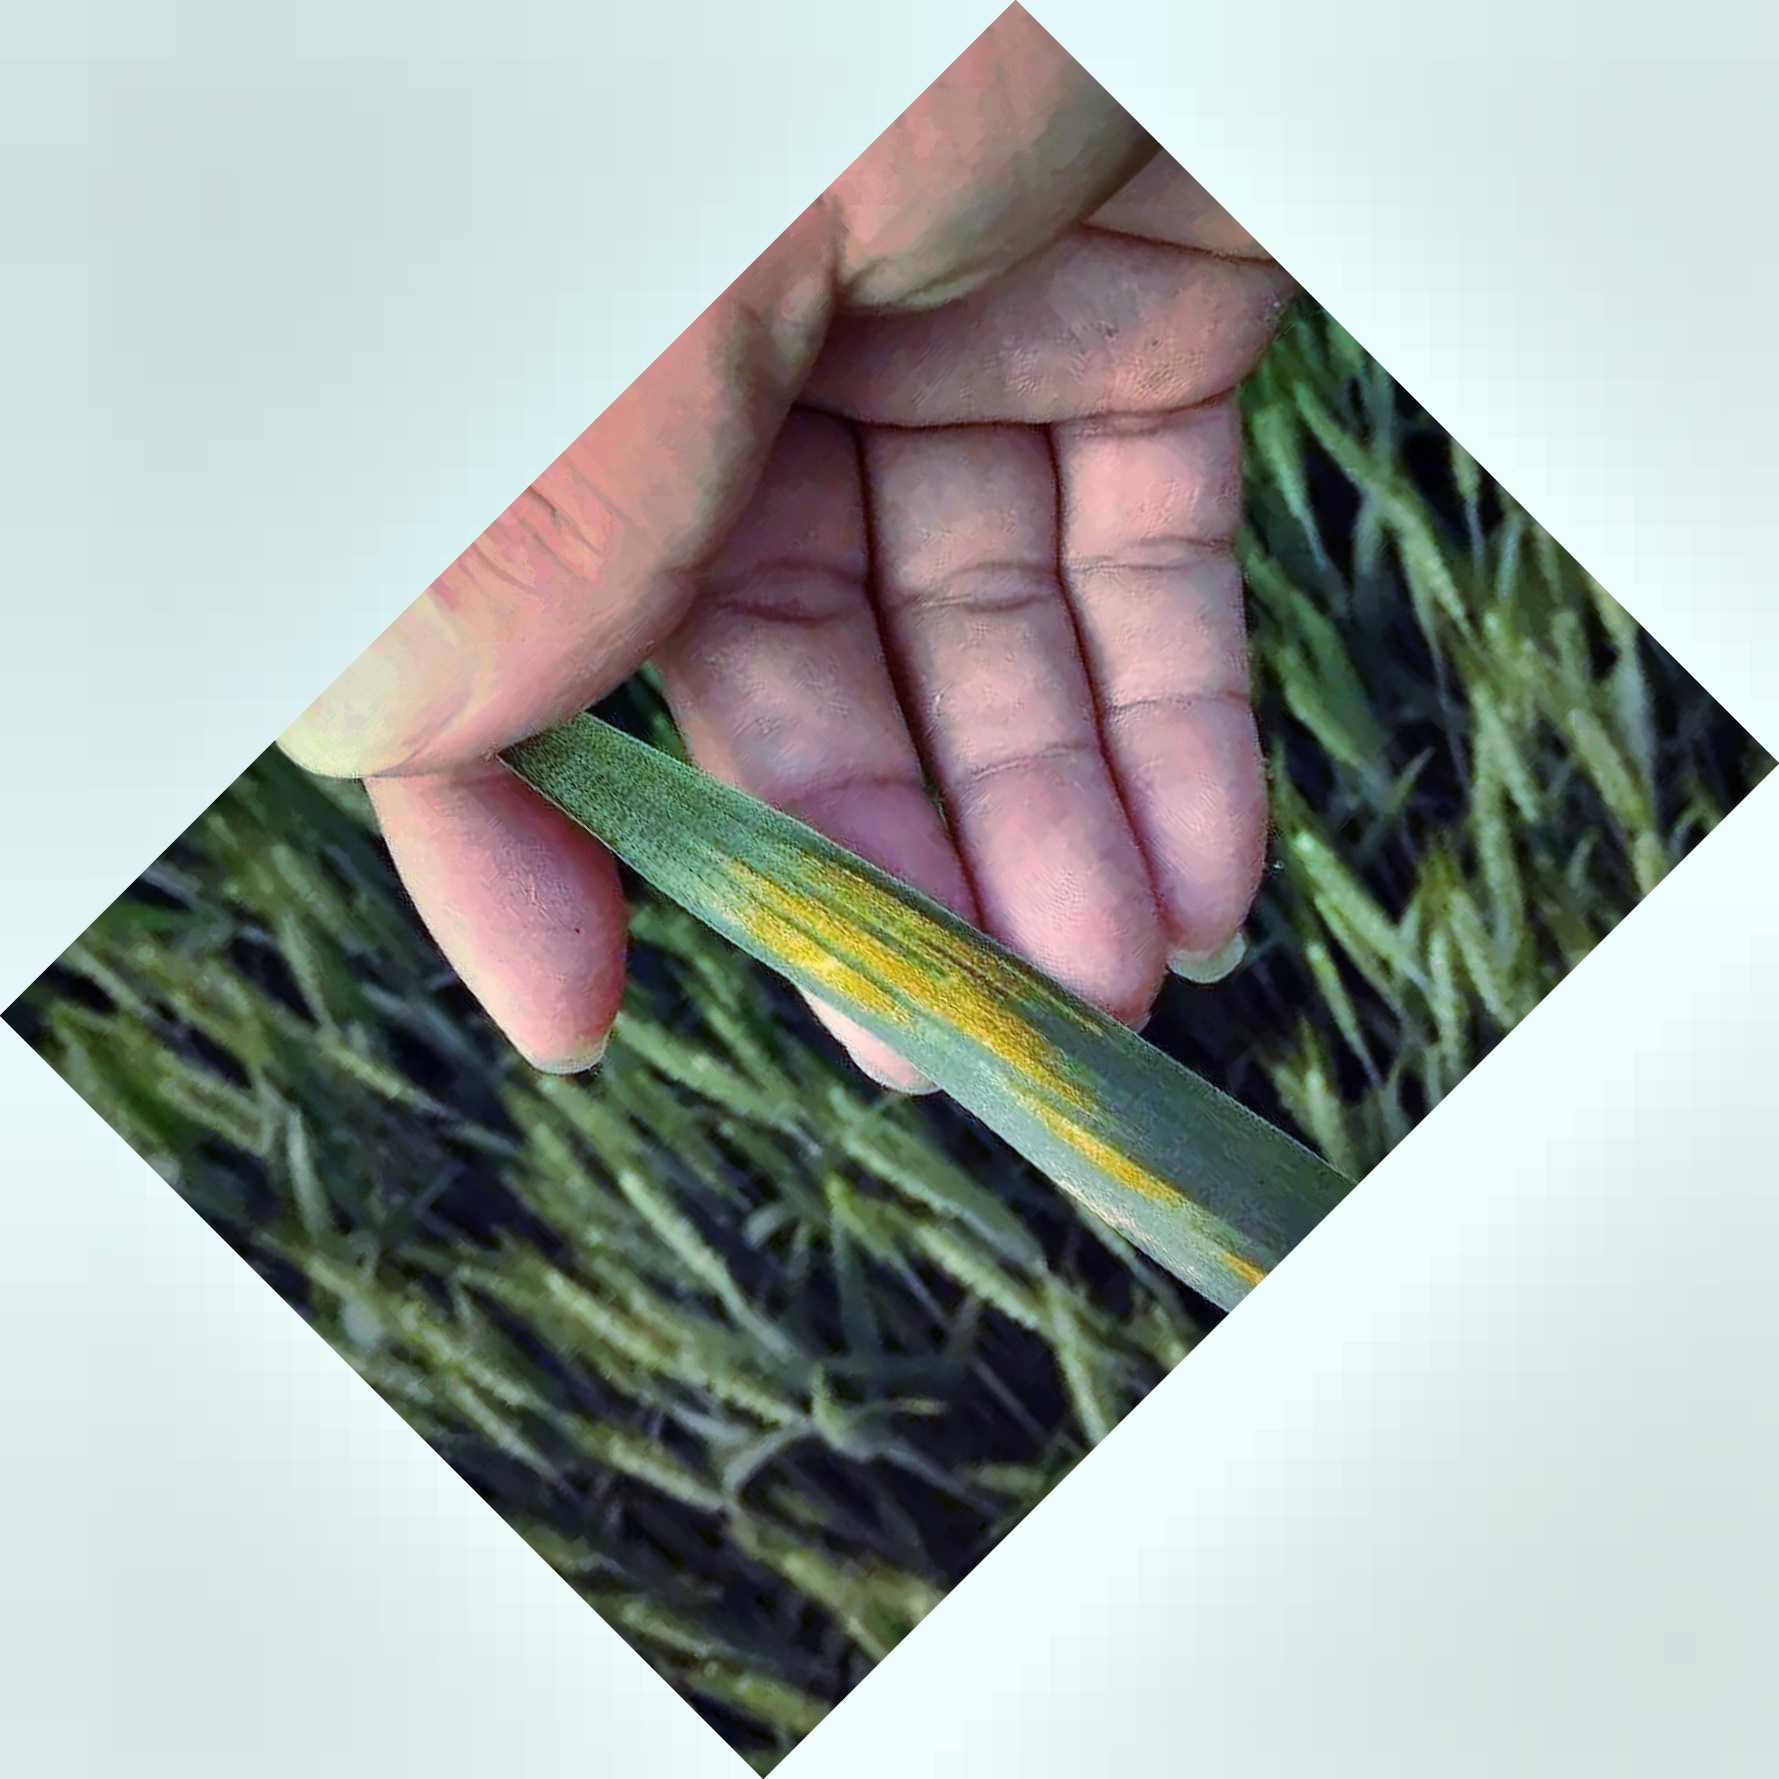Leaf Rust: (642, 775, 1246, 1214)
